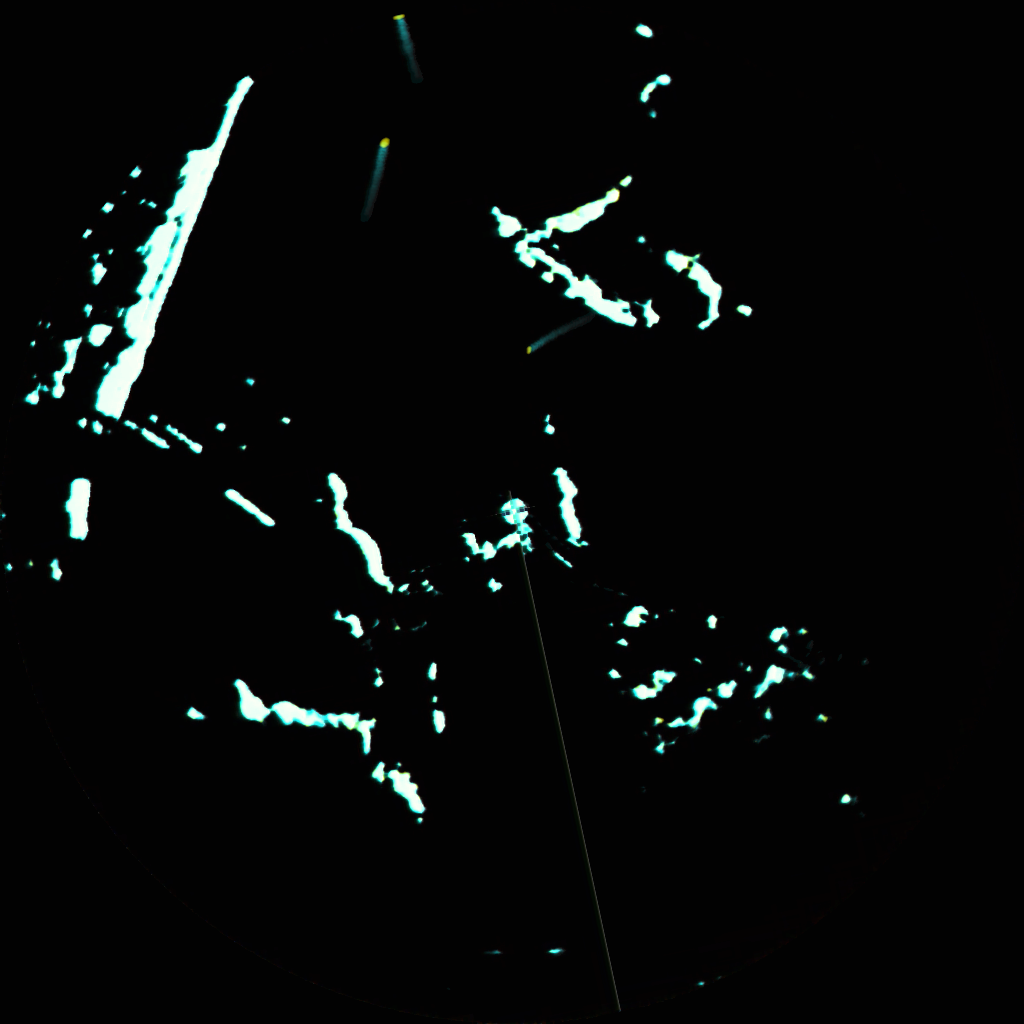B: (368, 134, 391, 191), (392, 11, 414, 62), (523, 331, 556, 355)
